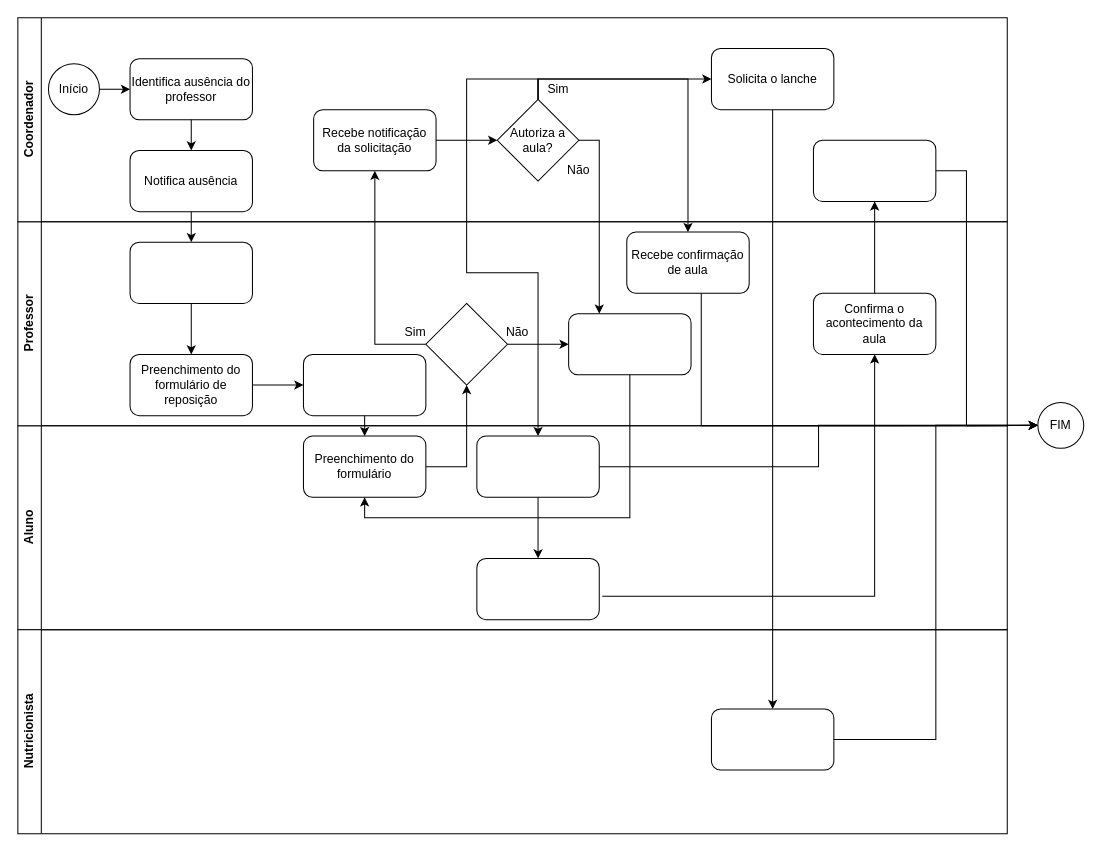
Image size: 1102x852. Some labels were removed from this diagram. The shapes that lost their labels are listed below. From the top down, each one's centre as x and y in pixels, then its label:
(x=874, y=170): Dá baixa na falta do docente
(x=190, y=272): Recebe notificação de ausência
(x=466, y=343): 75% de frequência?
(x=629, y=344): Professor faz uma nova solicitação de reposição
(x=364, y=384): Solicita Assinatura da turma
(x=537, y=466): Recebe notificação de aula
(x=537, y=588): Assina a frequência
(x=772, y=739): Recebe solicitação do lanche
